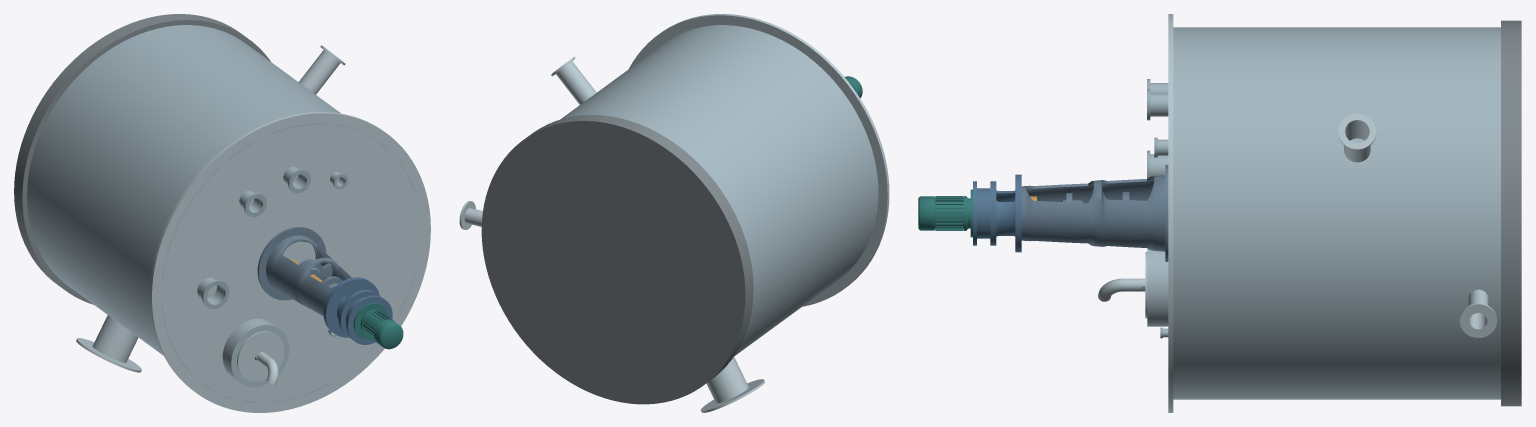
3 renders of one model, left to right at view 1: azimuth 30°, elevation 25°; view 2: azimuth 150°, elevation 25°; view 3: azimuth 270°, elevation 25°, orthographic. The views are drawn at different scales.
Visible parts, largest first — view 1: 槽盖_盖板, 本体_筒壳, 支撑_环形底座, 支架_06_Tapered_window_frame_with_bored_seats, 接口_人孔座圈, 接口_人孔盖, 驱动_01_Motor, 接口_西南检修接管, 支架_06_Frame_foot, 驱动_02_Base_flange_top, 接口_东北侧接管, 驱动_02_Upper_mount_flange (+3 smaller); view 2: 支撑_环形底座, 本体_筒壳, 槽盖_盖板, 接口_西南检修接管, 接口_东北侧接管, 接口_西南检修法兰; view 3: 本体_筒壳, 支架_06_Tapered_window_frame_with_bored_seats, 支撑_环形底座, 槽盖_盖板, 接口_人孔座圈, 驱动_01_Motor, 接口_东侧低位法兰, 接口_东北侧法兰, 驱动_02_Upper_housing, 接口_东北侧接管, 驱动_02_Lower_housing_1.
Part boxes in pixels (<box>): 槽盖_盖板: <box>150,112,430,412</box>; 本体_筒壳: <box>27,25,421,402</box>; 支撑_环形底座: <box>14,14,270,304</box>; 支架_06_Tapered_window_frame_with_bored_seats: <box>266,235,351,316</box>; 接口_人孔座圈: <box>222,318,289,387</box>; 接口_人孔盖: <box>237,331,284,381</box>; 驱动_01_Motor: <box>353,303,403,349</box>; 接口_西南检修接管: <box>92,315,138,362</box>; 支架_06_Frame_foot: <box>257,226,326,300</box>; 驱动_02_Base_flange_top: <box>324,278,379,337</box>; 接口_东北侧接管: <box>299,50,340,94</box>; 驱动_02_Upper_mount_flange: <box>346,295,392,344</box>; 支撑_环形底座: <box>481,115,753,404</box>; 本体_筒壳: <box>560,25,878,356</box>; 槽盖_盖板: <box>628,14,889,306</box>; 接口_西南检修接管: <box>706,357,748,403</box>; 接口_东北侧接管: <box>556,61,596,104</box>; 接口_西南检修法兰: <box>700,379,764,412</box>; 本体_筒壳: <box>1173,27,1500,399</box>; 支架_06_Tapered_window_frame_with_bored_seats: <box>1021,175,1165,251</box>; 支撑_环形底座: <box>1501,20,1521,406</box>; 槽盖_盖板: <box>1168,14,1173,412</box>; 接口_人孔座圈: <box>1147,248,1168,326</box>; 驱动_01_Motor: <box>918,189,972,237</box>; 接口_东侧低位法兰: <box>1459,303,1496,337</box>; 接口_东北侧法兰: <box>1338,113,1376,150</box>; 驱动_02_Upper_housing: <box>977,188,990,238</box>; 接口_东北侧接管: <box>1344,121,1370,162</box>; 驱动_02_Lower_housing_1: <box>996,201,1015,236</box>.
Size of the model in its own units: 3.3 by 3.18 by 4.54.
